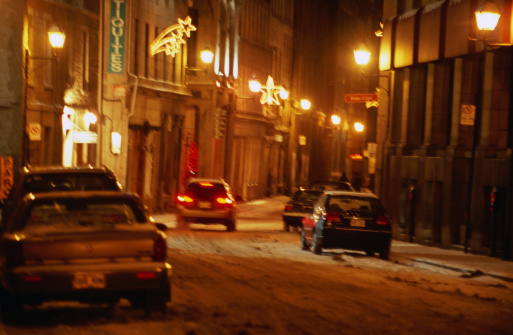car: (4, 185, 179, 323)
